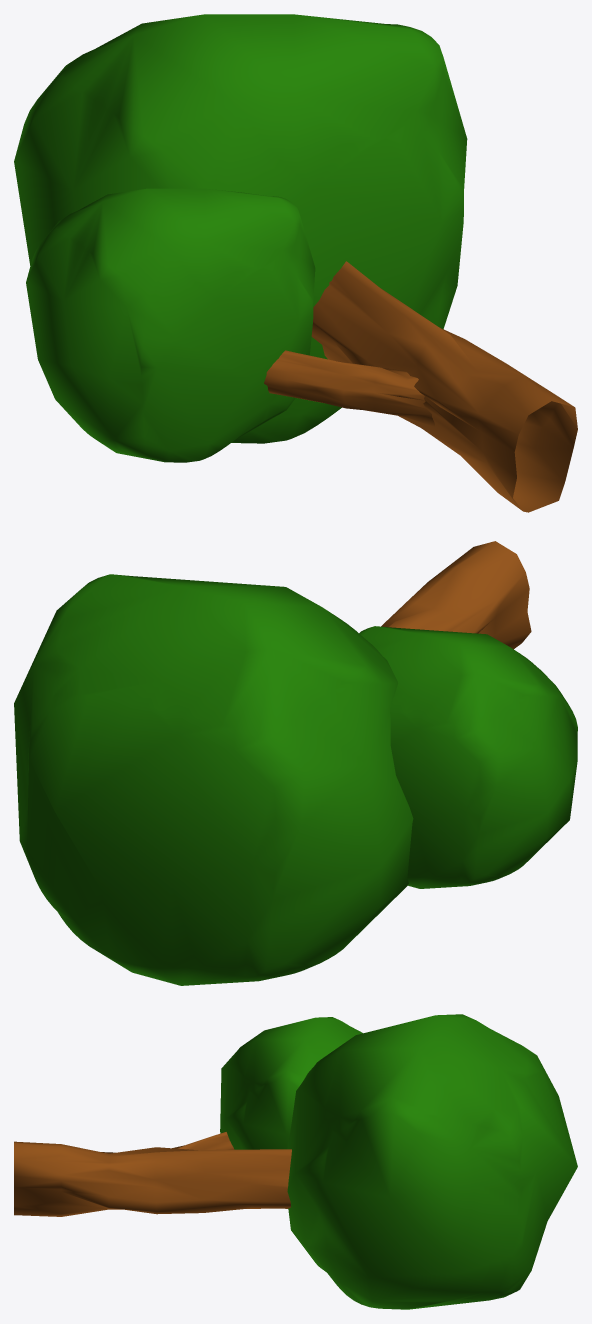
The model's file is Tree3.fbx.
3 views of the same model, one above another, from view 1: azimuth 30°, elevation 25°; view 2: azimuth 150°, elevation 25°; view 3: azimuth 270°, elevation 25° (orthographic). The views are drawn at different scales.
Parts seen in each view (by area): view 1: Object001; view 2: Object001; view 3: Object001.
Boxes of the visible parts, x1,y1,x2,y2 form: Object001: (14,14,577,512); Object001: (14,541,577,985); Object001: (14,1014,577,1309).
Size of the model in its own units: 80.33 by 65.23 by 121.
